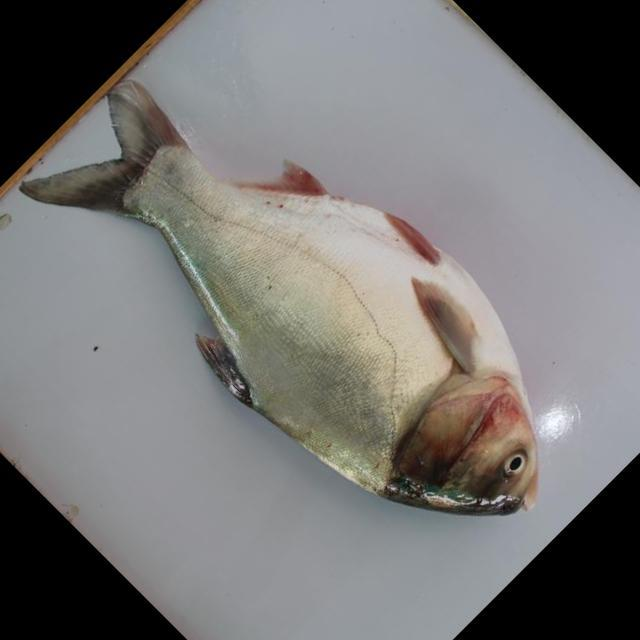SilverCarp: (49, 66, 583, 522)
